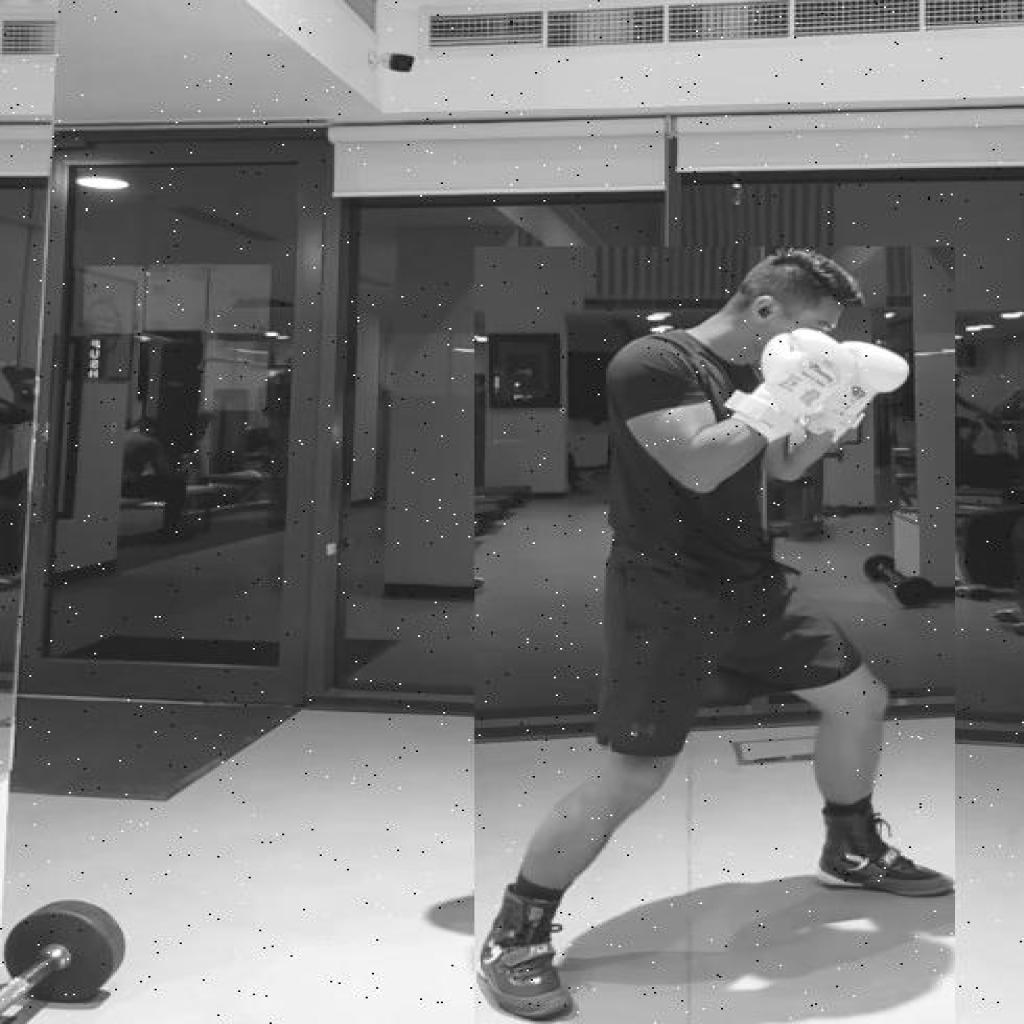no punch: (474, 246, 955, 1024)
